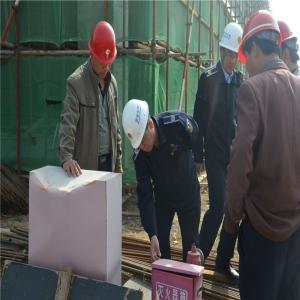red: (239, 7, 283, 81), (89, 21, 118, 78), (273, 18, 300, 74)
white: (122, 96, 159, 157), (219, 23, 245, 75)
